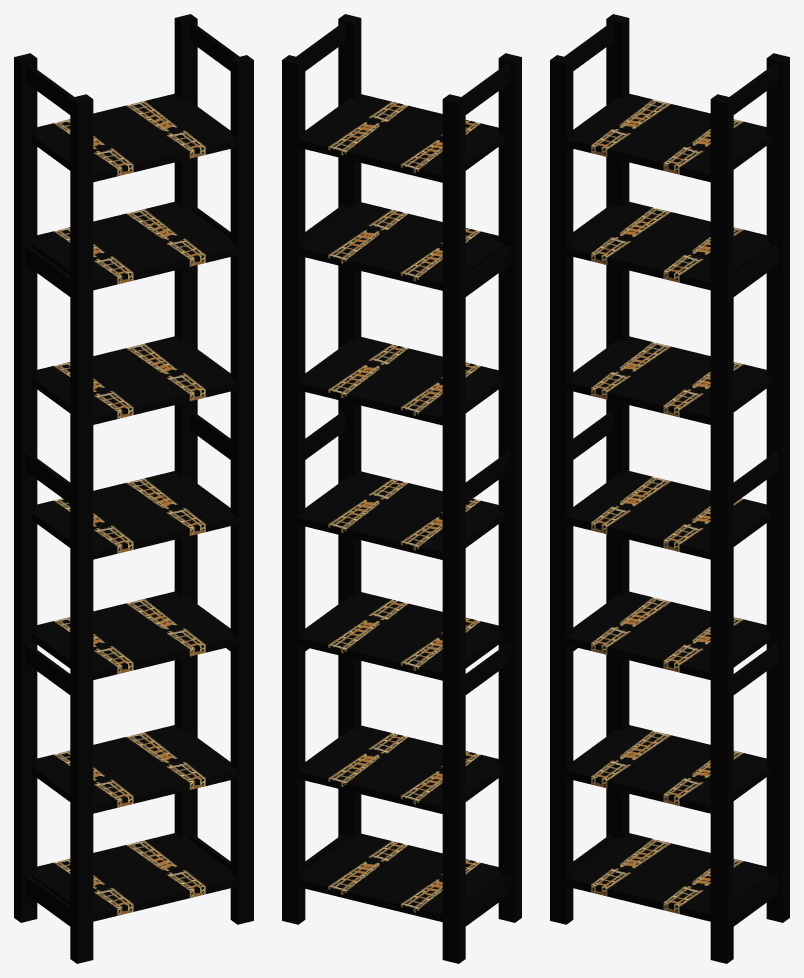
File: pinewoodRackFullHeightHalfWidth.obj
3 views of the same model, side by side, from view 1: azimuth 30°, elevation 25°; view 2: azimuth 150°, elevation 25°; view 3: azimuth 330°, elevation 25° (orthographic).
Visible parts, largest first — view 1: rack; view 2: rack; view 3: rack.
Boxes of the visible parts, x1=… form: rack: x1=14, y1=14, x2=253, y2=963; rack: x1=282, y1=14, x2=521, y2=963; rack: x1=550, y1=14, x2=789, y2=963.
Size of the model in its own units: 48.8 by 227 by 30.17.
